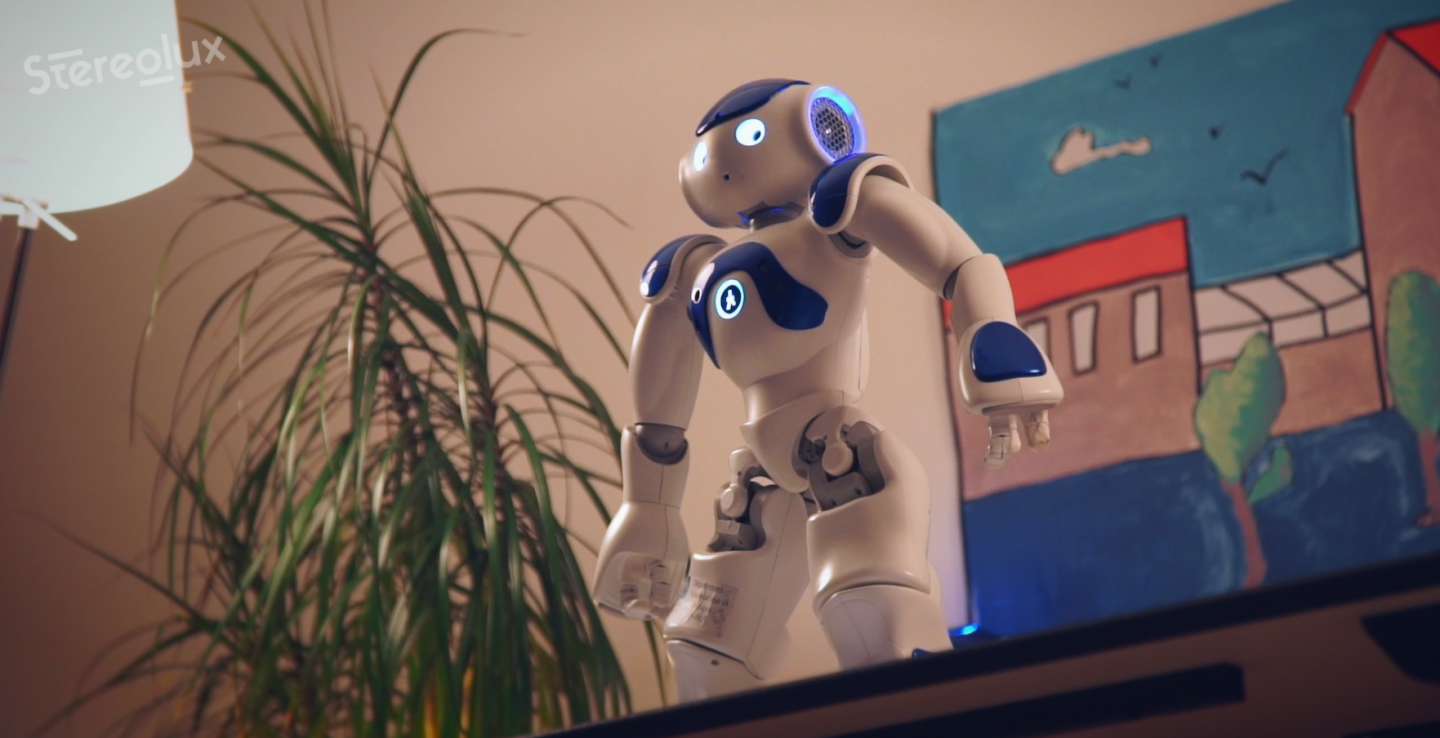nao: (554, 50, 1088, 692)
